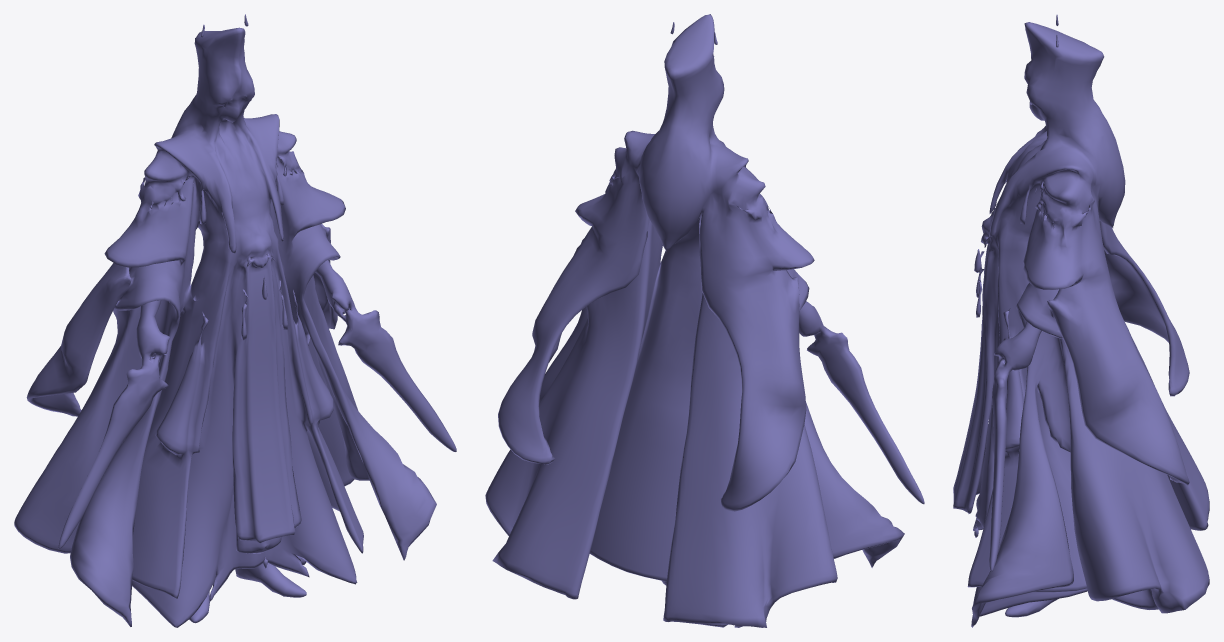
File: veiled-concordat.glb
3 renders of one model, left to right at view 1: azimuth 30°, elevation 25°; view 2: azimuth 150°, elevation 25°; view 3: azimuth 270°, elevation 25°, orthographic.
Visible parts, largest first — view 1: model; view 2: model; view 3: model.
Part boxes in pixels (x1=…): model: x1=14, y1=14, x2=456, y2=627; model: x1=485, y1=14, x2=924, y2=627; model: x1=953, y1=14, x2=1209, y2=627.
Size of the model in its own units: 1.36 by 1.88 by 0.7688.
